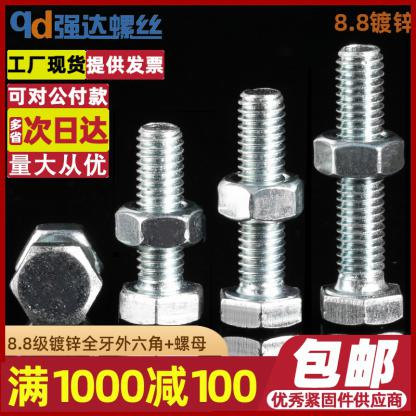FOD: (312, 42, 404, 329), (218, 85, 305, 333), (113, 121, 204, 327), (11, 221, 104, 324)
